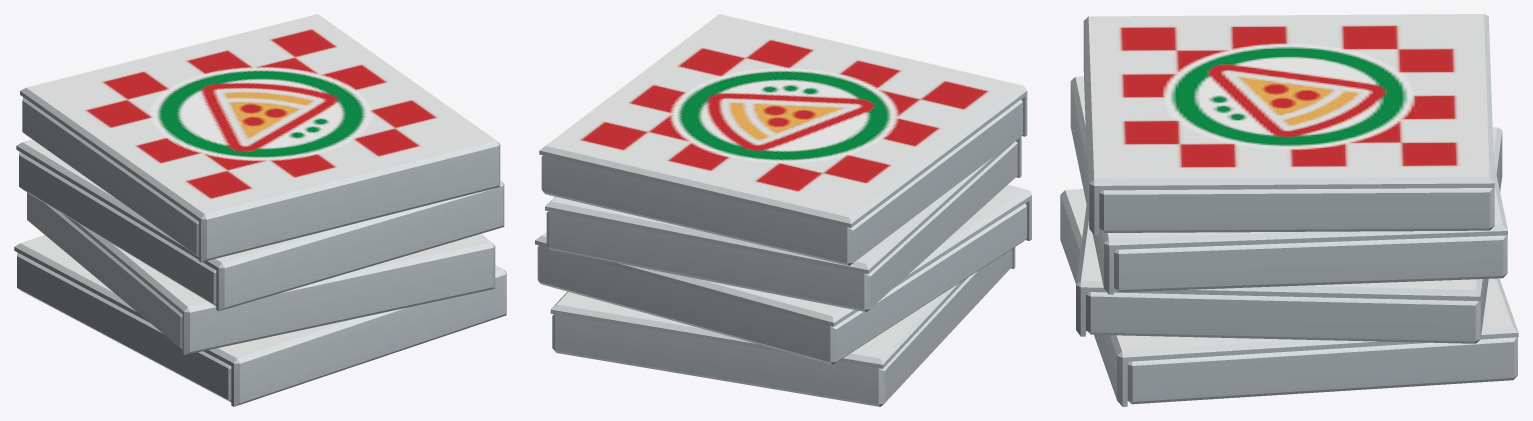
Rendered from pizzabox_stacked.gltf.
The picture shows the model from 3 angles, left to right: view 1: azimuth 30°, elevation 25°; view 2: azimuth 150°, elevation 25°; view 3: azimuth 270°, elevation 25°; orthographic projection. The views are drawn at different scales.
Visible parts, largest first — view 1: pizzabox_stacked; view 2: pizzabox_stacked; view 3: pizzabox_stacked.
Boxes of the visible parts, left/top/right/bottom form: pizzabox_stacked: left=14, top=14, right=506, bottom=406; pizzabox_stacked: left=535, top=14, right=1031, bottom=406; pizzabox_stacked: left=1060, top=14, right=1518, bottom=406.
Size of the model in its own units: 2.28 by 1.2 by 2.32.
1 material, 1 textured.
